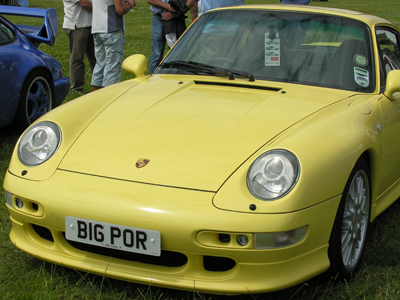licencePlate: (64, 215, 168, 258)
